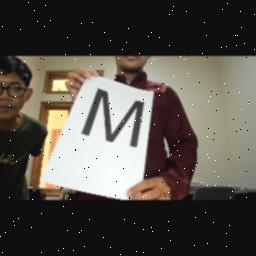m: (80, 88, 148, 152)
